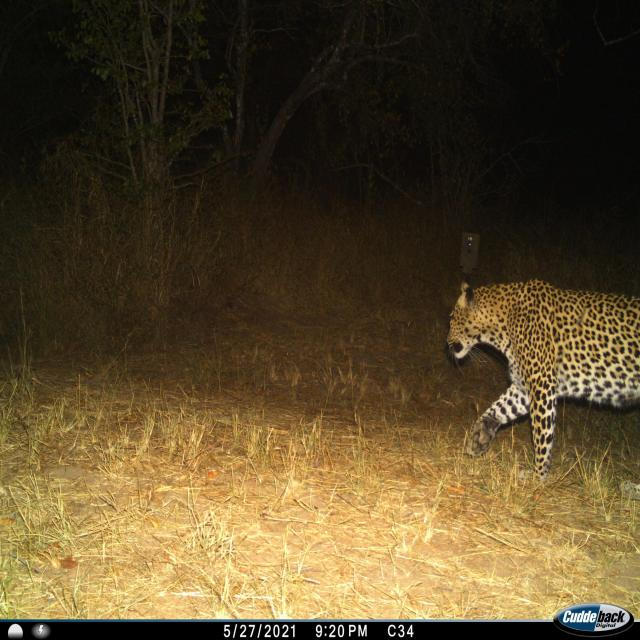Leopard: (438, 276, 640, 504)
